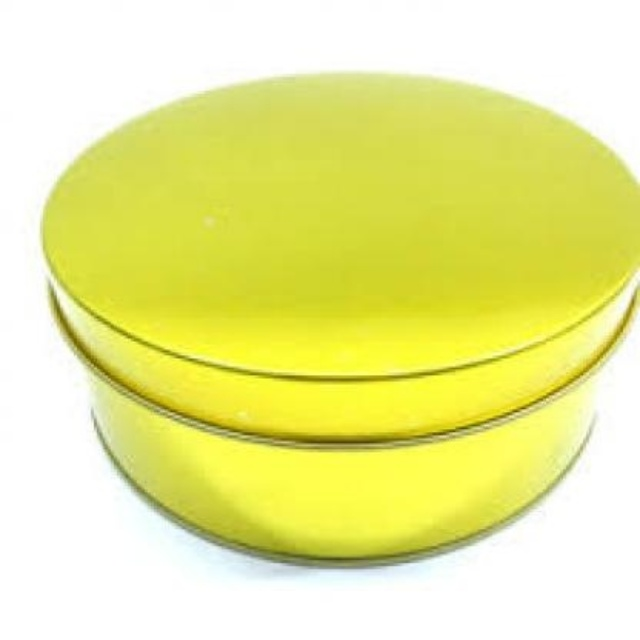trash: (43, 74, 638, 562)
